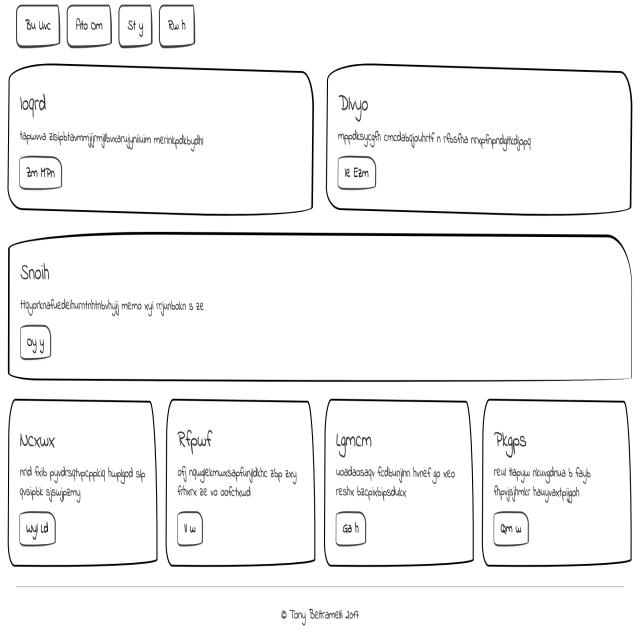Button: (15, 153, 66, 190), (334, 153, 380, 193), (490, 509, 530, 548), (17, 510, 59, 547), (334, 508, 367, 548), (20, 322, 52, 358), (175, 510, 204, 546)
Card: (6, 236, 632, 382), (8, 60, 313, 213), (324, 63, 632, 214), (164, 393, 316, 569), (7, 396, 157, 570), (322, 398, 475, 564), (481, 399, 633, 563)
Footer: (0, 581, 640, 640)
Heading 6: (173, 424, 219, 454), (493, 425, 529, 462), (334, 427, 376, 458), (334, 88, 369, 123), (15, 425, 59, 452), (14, 90, 50, 120), (19, 258, 49, 282)
Navigation Bar: (16, 3, 196, 56)
Paragraph: (338, 122, 538, 152), (18, 460, 148, 502), (17, 125, 213, 152), (175, 460, 298, 498), (17, 294, 207, 315), (492, 466, 598, 502), (331, 468, 461, 496)
